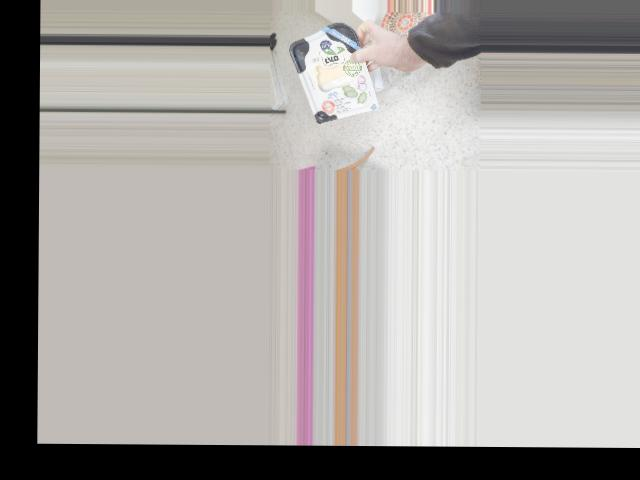cheese: (302, 26, 370, 122)
